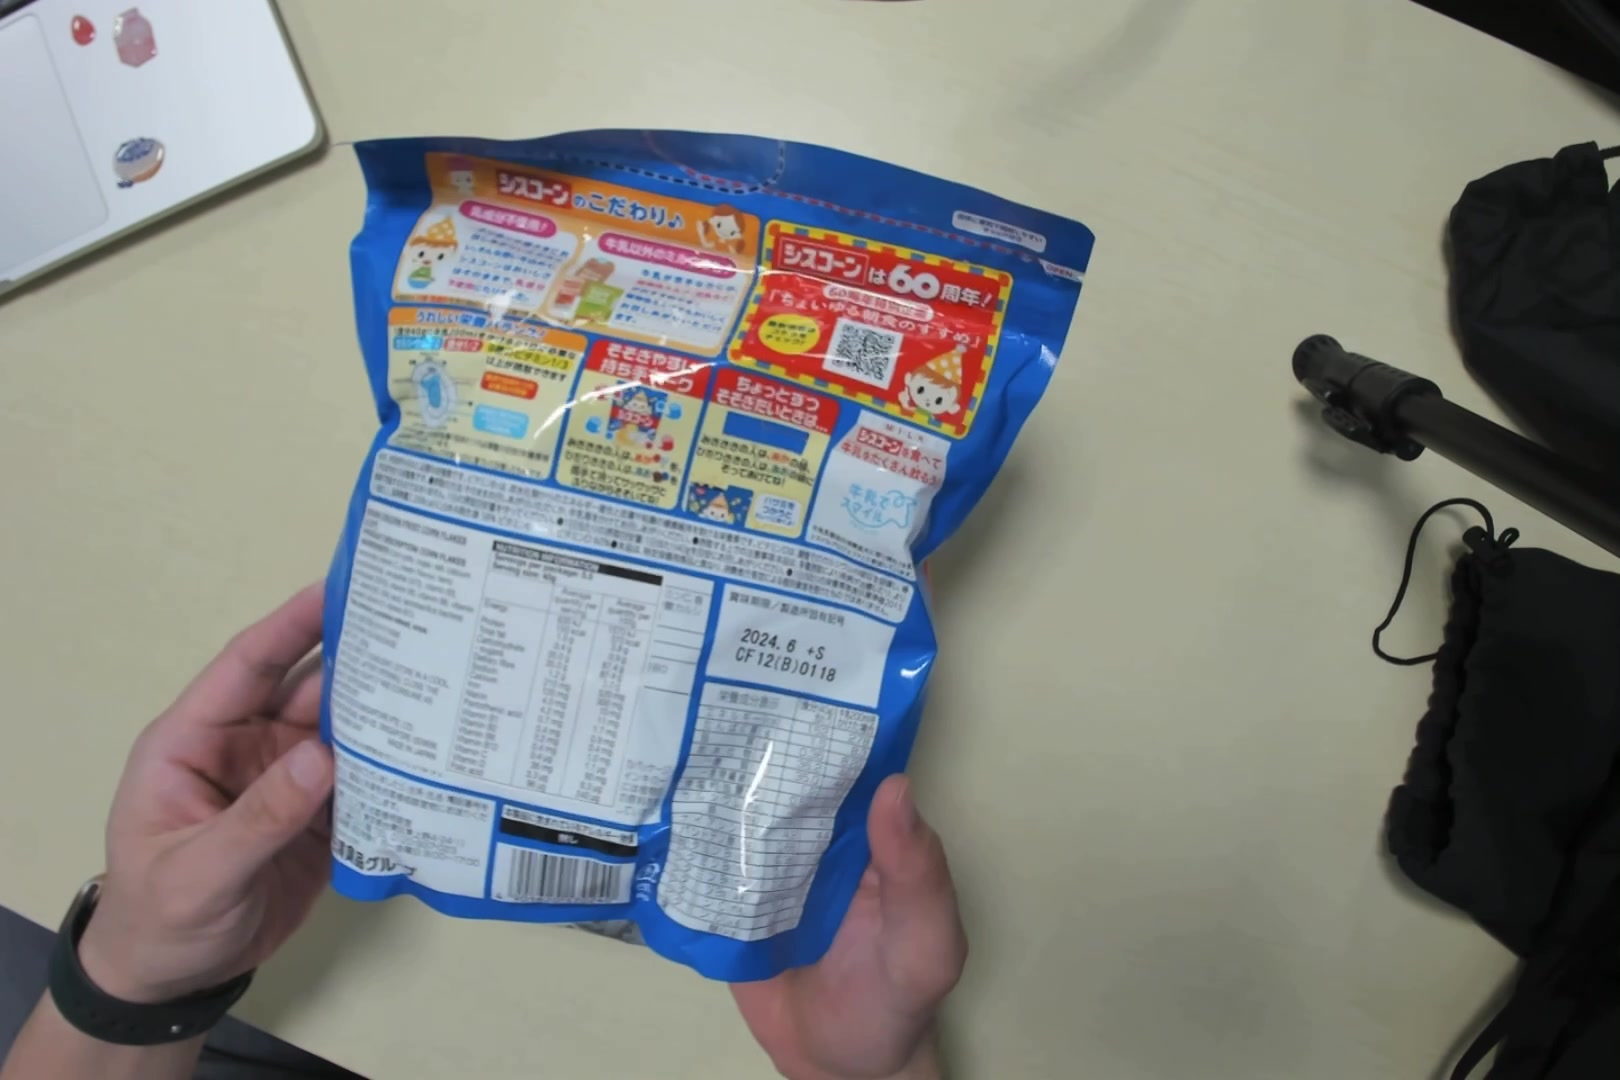BreakfastCereals_200-299g_NonHalal_NonHealthy: (315, 119, 1068, 967)
